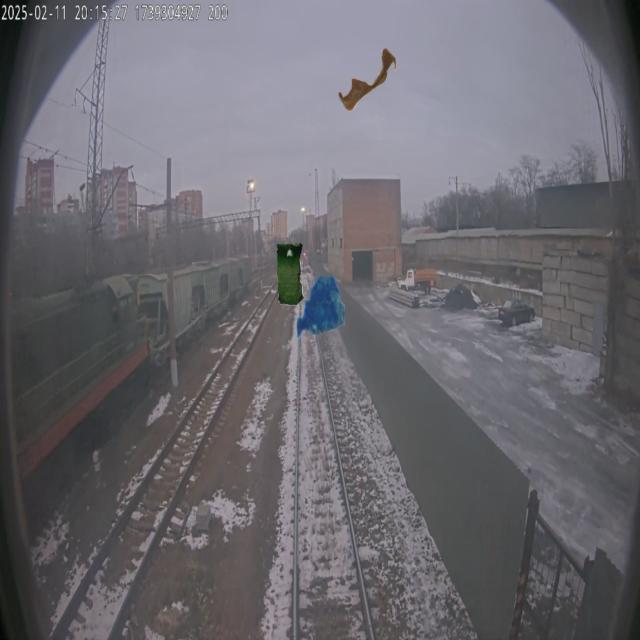floating object: (339, 48, 397, 112)
plastic bag: (296, 275, 347, 339), (277, 242, 304, 306)
